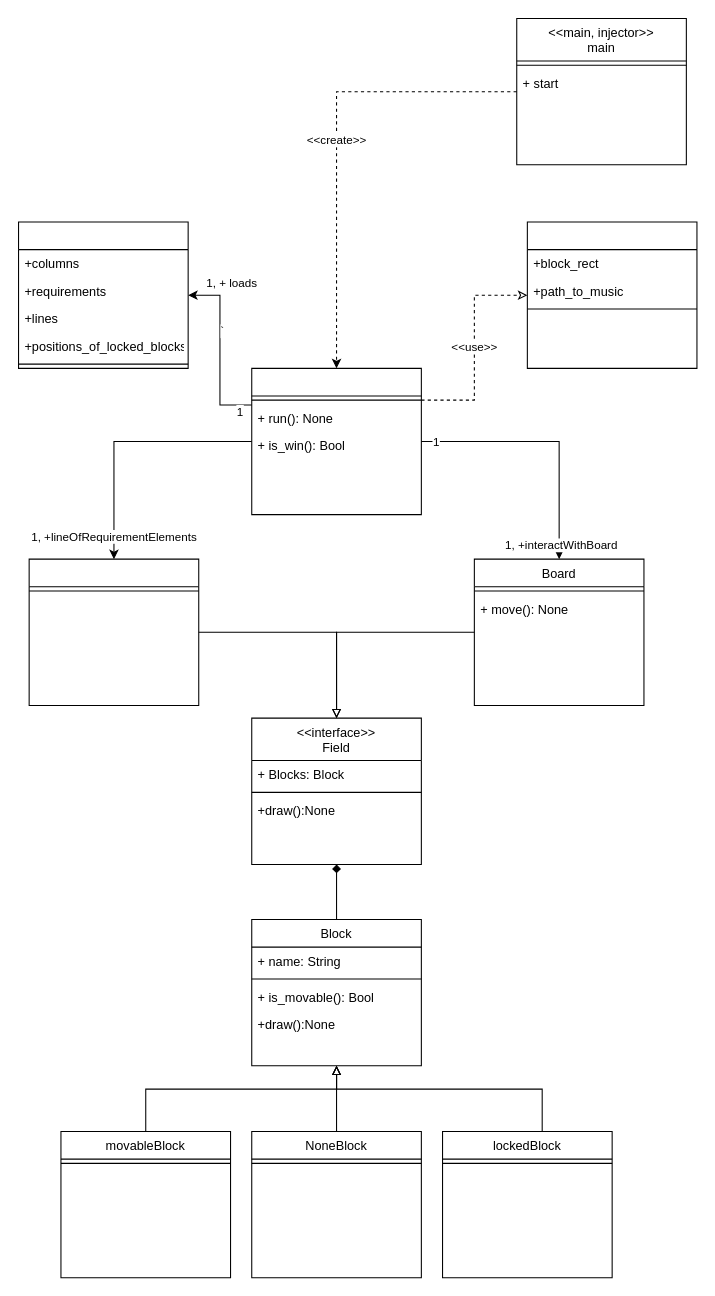
The diagram is 715 pixels wide and 1296 high, and some of its shapes have lost their labels. The shapes that lost their labels are listed below. From the top down, each one's box as (x1, y1, x2, y2) in pixels, then its label:
(17, 221, 188, 368): Level
(526, 221, 697, 368): Settings
(251, 367, 421, 515): Game
(28, 558, 199, 705): Requerements
